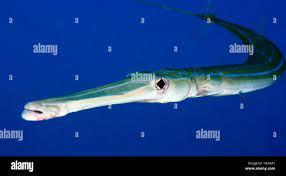Fistularia commersonii: (20, 4, 285, 122)
